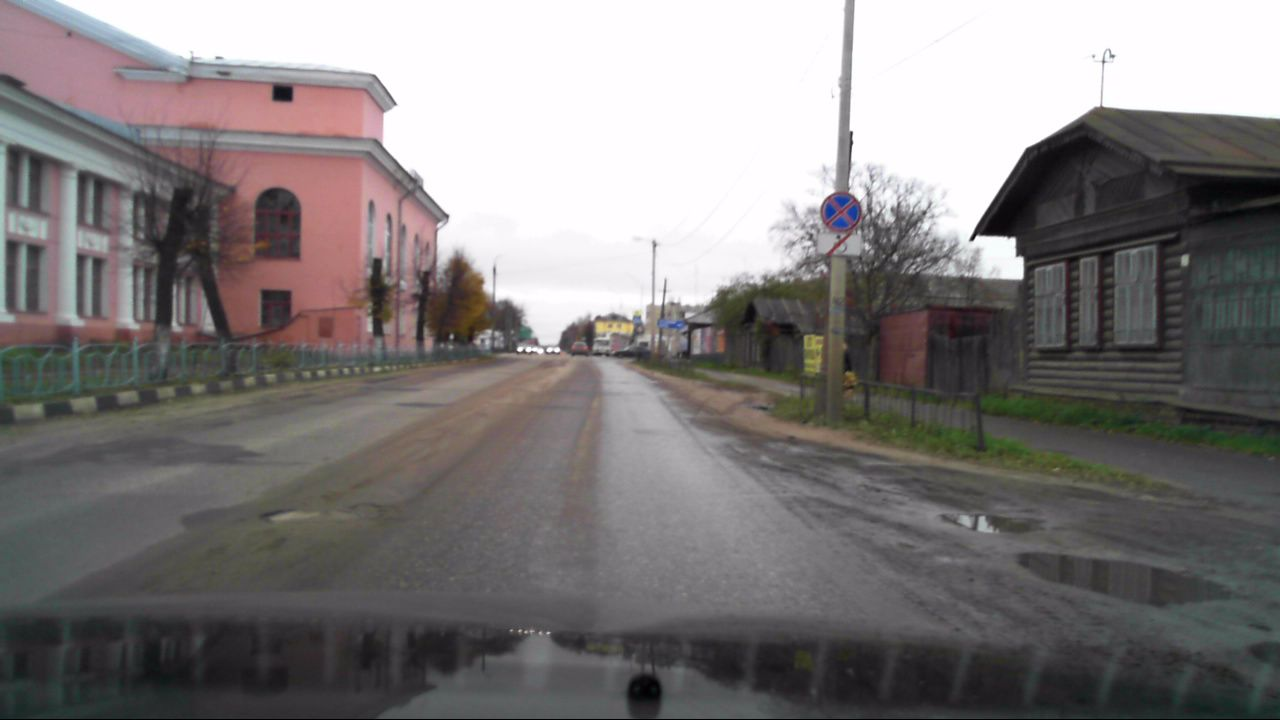No Parking: (820, 192, 861, 232)
